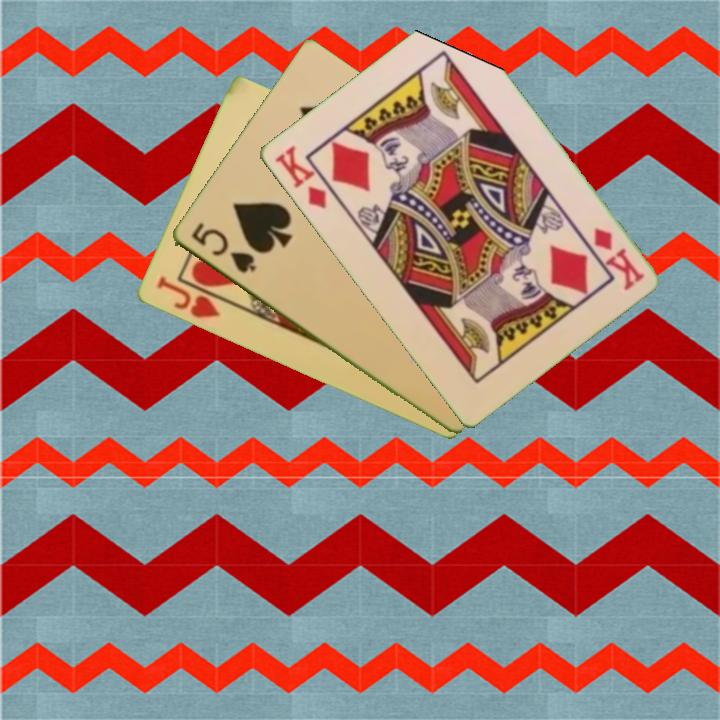5s: (187, 219, 259, 277)
Jh: (152, 272, 233, 322)
Kd: (270, 141, 329, 212), (589, 224, 647, 293)
